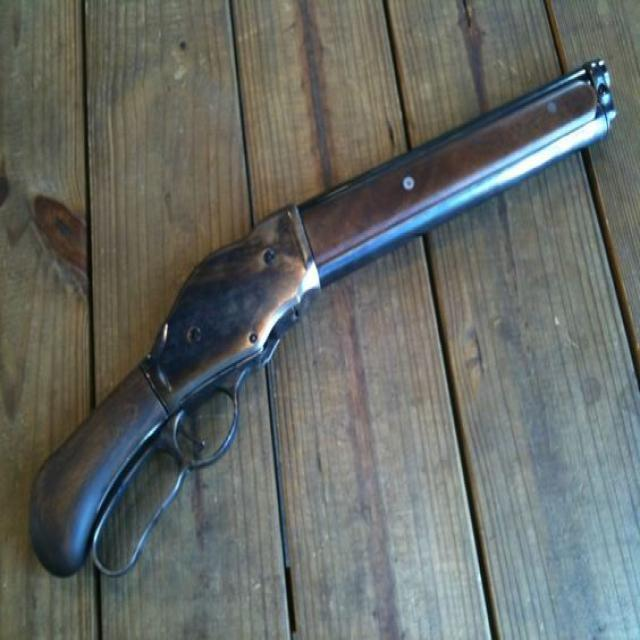shotgun: (11, 55, 640, 592)
